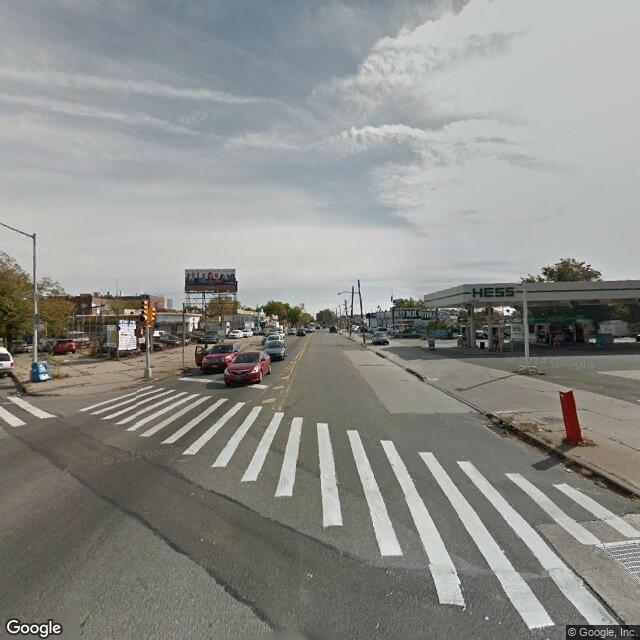litter: (558, 464, 575, 477)
